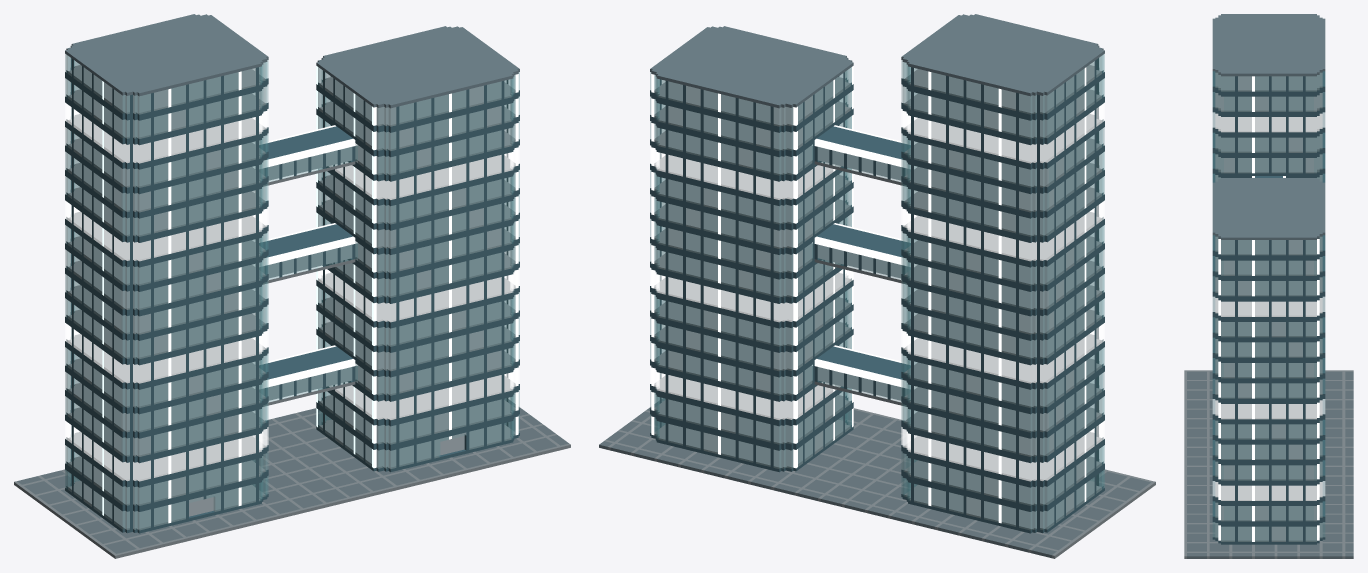
File: bridged.glb
3 renders of one model, left to right at view 1: azimuth 30°, elevation 25°; view 2: azimuth 150°, elevation 25°; view 3: azimuth 270°, elevation 25°, orthographic. The views are drawn at different scales.
Parts seen in each view (by area): view 1: Ground, Tower_A_Roof, Tower_B_Roof, Tower_A_Floor_18_Facade, Tower_B_Floor_15_Facade, Tower_B_Floor_14_Facade, Tower_A_Floor_14_Facade, Tower_A_Floor_12_Facade, Tower_B_Floor_05_Facade, Tower_B_Floor_06_Facade, Tower_A_Floor_03_Facade, Tower_A_Floor_05_Facade (+60 smaller); view 2: Ground, Tower_A_Roof, Tower_B_Roof, Tower_A_Floor_18_Facade, Tower_B_Floor_15_Facade, Tower_B_Floor_14_Facade, Tower_A_Floor_14_Facade, Tower_A_Floor_01_Facade, Tower_A_Floor_12_Facade, Tower_B_Floor_01_Facade, Tower_B_Floor_05_Facade, Tower_B_Floor_06_Facade (+60 smaller); view 3: Ground, Tower_A_Roof, Tower_B_Roof, Tower_A_Floor_18_Facade, Tower_B_Floor_15_Facade, Tower_B_Floor_08_Facade, Tower_B_Floor_06_Facade, Tower_B_Floor_12_Facade, Tower_B_Floor_03_Facade, Tower_A_Floor_16_Facade, Tower_B_Floor_07_Facade, Tower_B_Floor_10_Facade (+32 smaller).
Part boxes in pixels (box(x1,y1,x2,y2)): Ground: box(14, 398, 570, 558); Tower_A_Roof: box(68, 15, 265, 91); Tower_B_Roof: box(319, 27, 516, 103); Tower_A_Floor_18_Facade: box(65, 14, 268, 117); Tower_B_Floor_15_Facade: box(316, 26, 519, 129); Tower_B_Floor_14_Facade: box(316, 87, 519, 154); Tower_A_Floor_14_Facade: box(65, 148, 268, 215); Tower_A_Floor_12_Facade: box(65, 197, 268, 264); Tower_B_Floor_05_Facade: box(316, 307, 519, 374); Tower_B_Floor_06_Facade: box(316, 283, 519, 349); Tower_A_Floor_03_Facade: box(65, 417, 268, 484); Tower_A_Floor_05_Facade: box(65, 368, 268, 435); Ground: box(599, 398, 1155, 558); Tower_A_Roof: box(904, 15, 1101, 91); Tower_B_Roof: box(653, 27, 850, 103); Tower_A_Floor_18_Facade: box(901, 14, 1104, 117); Tower_B_Floor_15_Facade: box(650, 26, 853, 129); Tower_B_Floor_14_Facade: box(650, 87, 853, 154); Tower_A_Floor_14_Facade: box(901, 148, 1104, 215); Tower_A_Floor_01_Facade: box(901, 466, 1104, 533); Tower_A_Floor_12_Facade: box(901, 197, 1104, 264); Tower_B_Floor_01_Facade: box(650, 405, 853, 472); Tower_B_Floor_05_Facade: box(650, 307, 853, 374); Tower_B_Floor_06_Facade: box(650, 283, 853, 349); Ground: box(1184, 370, 1353, 558); Tower_A_Roof: box(1215, 15, 1322, 72); Tower_B_Roof: box(1215, 179, 1322, 236); Tower_A_Floor_18_Facade: box(1212, 14, 1325, 93); Tower_B_Floor_15_Facade: box(1212, 178, 1325, 257); Tower_B_Floor_08_Facade: box(1212, 358, 1325, 401); Tower_B_Floor_06_Facade: box(1212, 399, 1325, 442); Tower_B_Floor_12_Facade: box(1212, 276, 1325, 319); Tower_B_Floor_03_Facade: box(1212, 460, 1325, 503); Tower_A_Floor_16_Facade: box(1212, 92, 1325, 134); Tower_B_Floor_07_Facade: box(1212, 378, 1325, 421); Tower_B_Floor_10_Facade: box(1212, 317, 1325, 360).
Size of the model in its own units: 78 by 72.5 by 30.
